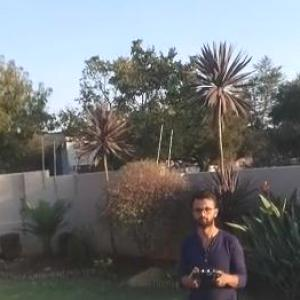follow: (173, 184, 252, 299)
